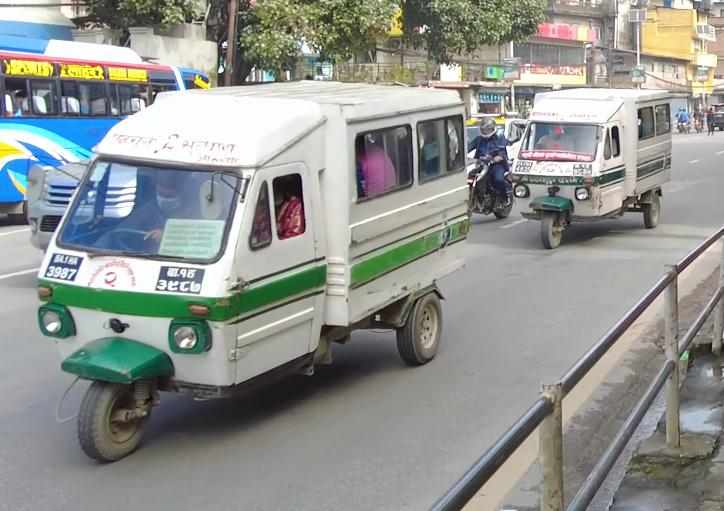tempo: (38, 72, 486, 465), (508, 78, 685, 249)
